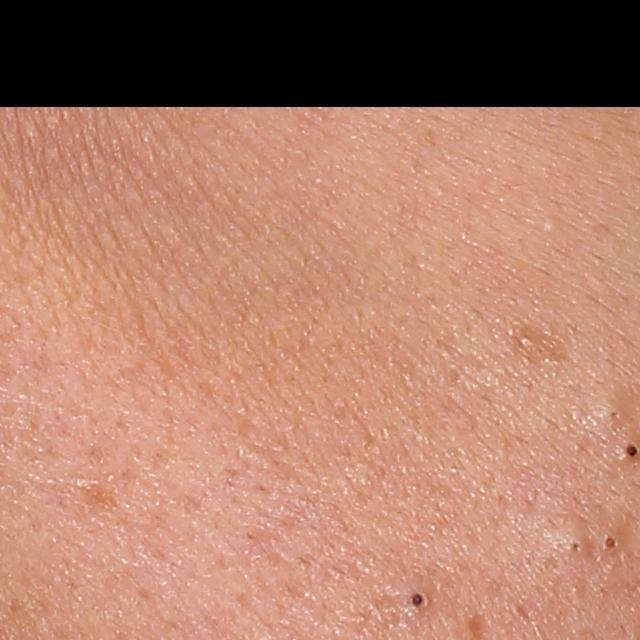comedo: (605, 402, 626, 427), (541, 214, 563, 237), (598, 535, 626, 553), (409, 592, 431, 612)
melasma: (69, 480, 125, 523)
